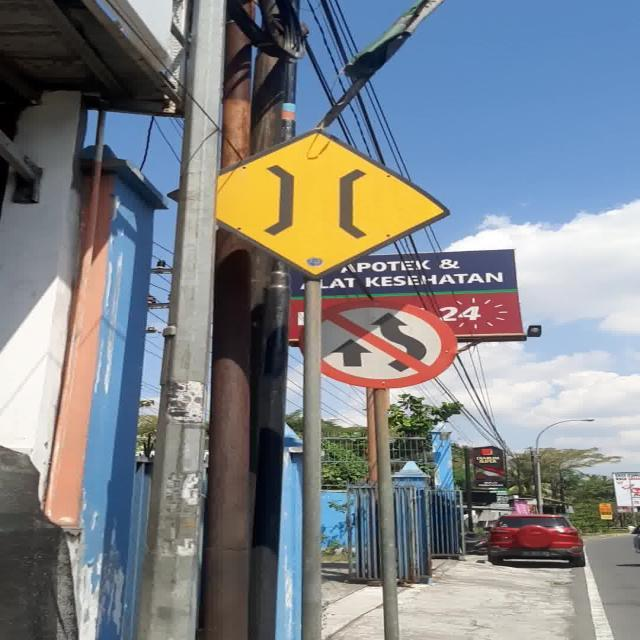Dilarang Mendahului: (323, 300, 458, 388)
